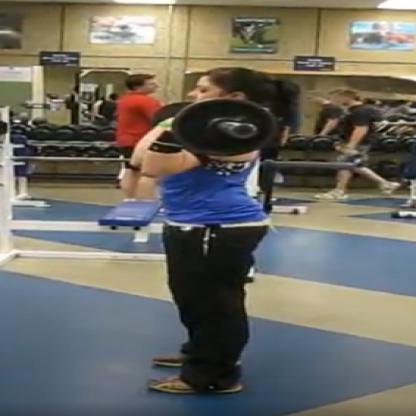barbell: (147, 98, 278, 158)
